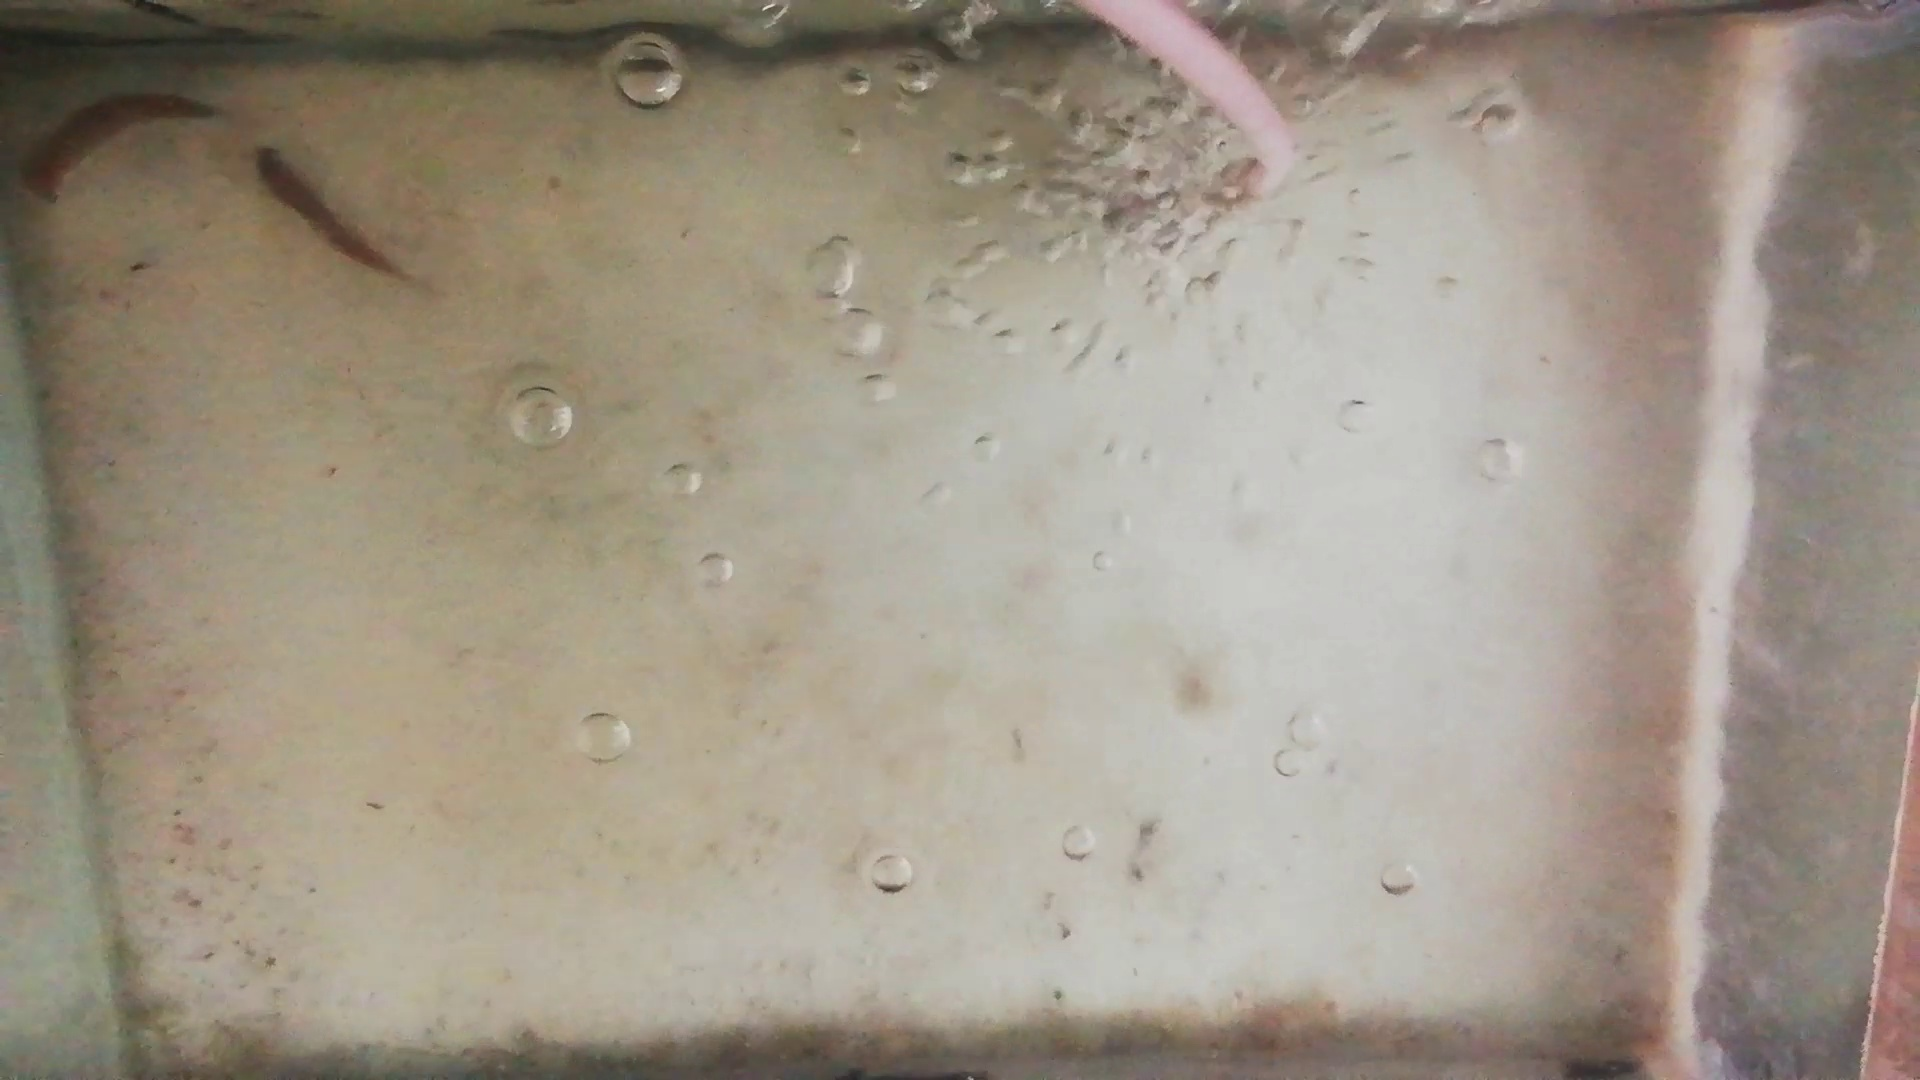fish: (20, 94, 222, 199), (252, 146, 396, 274)
